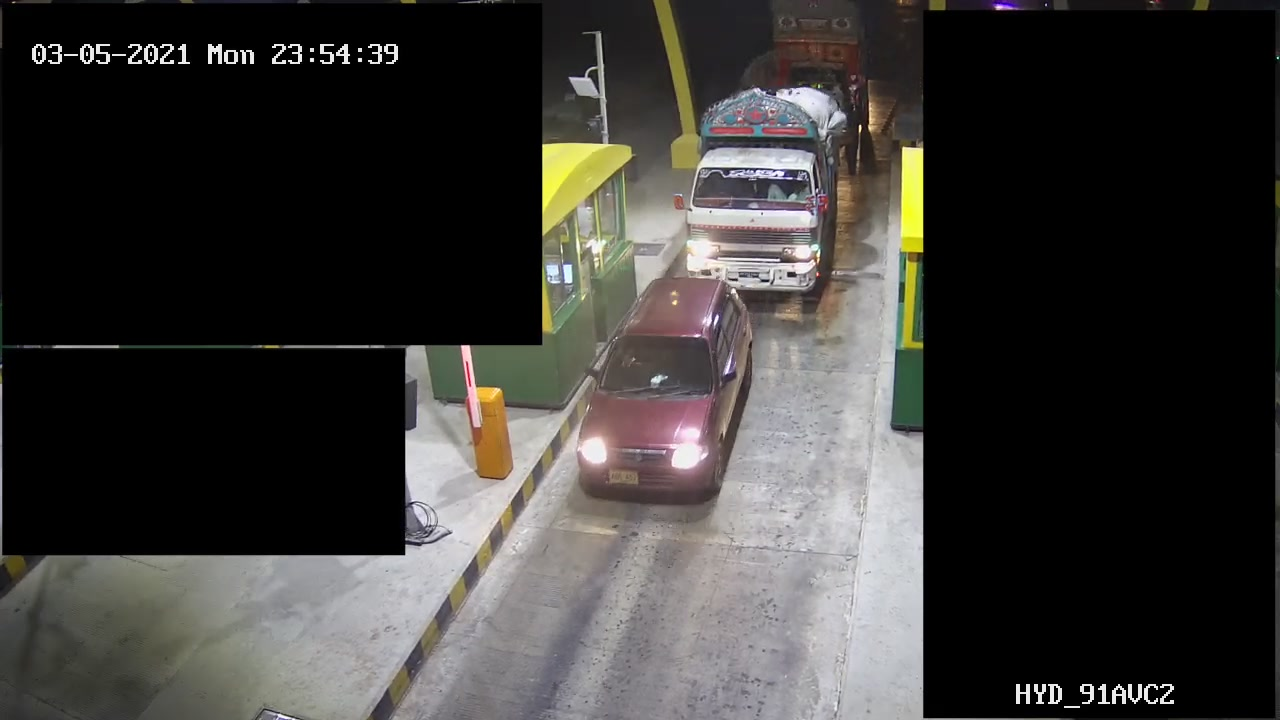F1: (573, 278, 757, 500)
